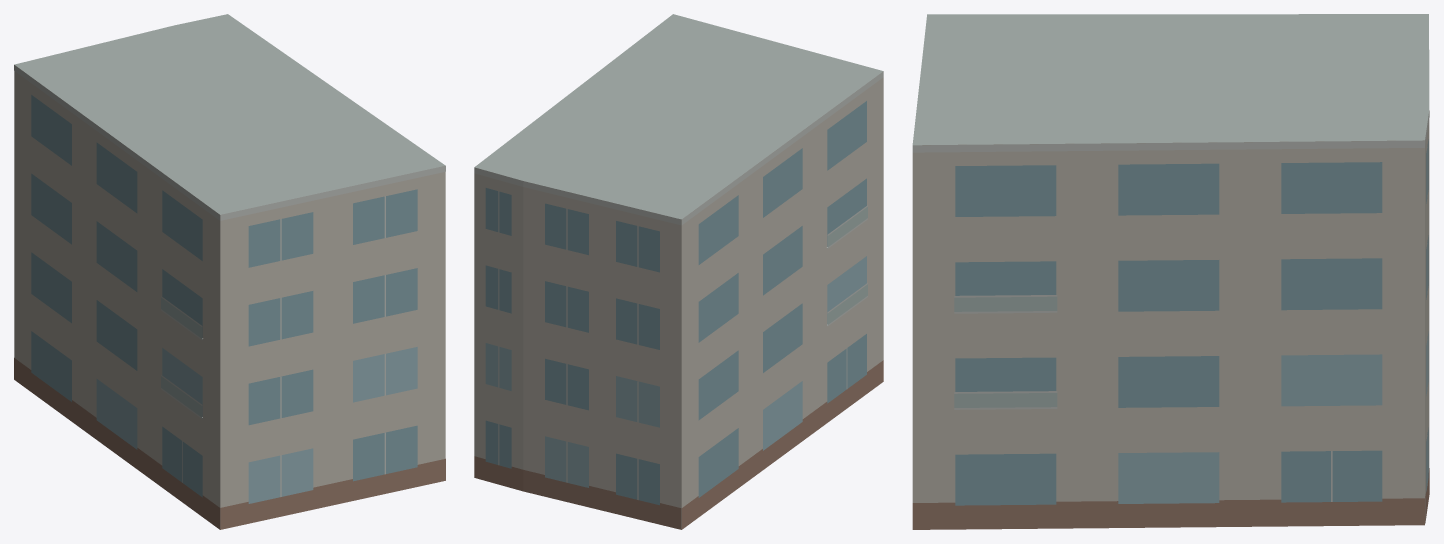
File: survey-upis-32738090.glb
The picture shows the model from 3 angles, left to right: view 1: azimuth 30°, elevation 25°; view 2: azimuth 150°, elevation 25°; view 3: azimuth 270°, elevation 25°; orthographic projection. The views are drawn at different scales.
Visible parts, largest first — view 1: survey-upis-32738090.tmp; view 2: survey-upis-32738090.tmp; view 3: survey-upis-32738090.tmp.
Part boxes in pixels (<box>): survey-upis-32738090.tmp: <box>14,14,445,529</box>; survey-upis-32738090.tmp: <box>474,14,883,529</box>; survey-upis-32738090.tmp: <box>912,14,1429,529</box>.
Size of the model in its own units: 9.32 by 12.7 by 15.48.
